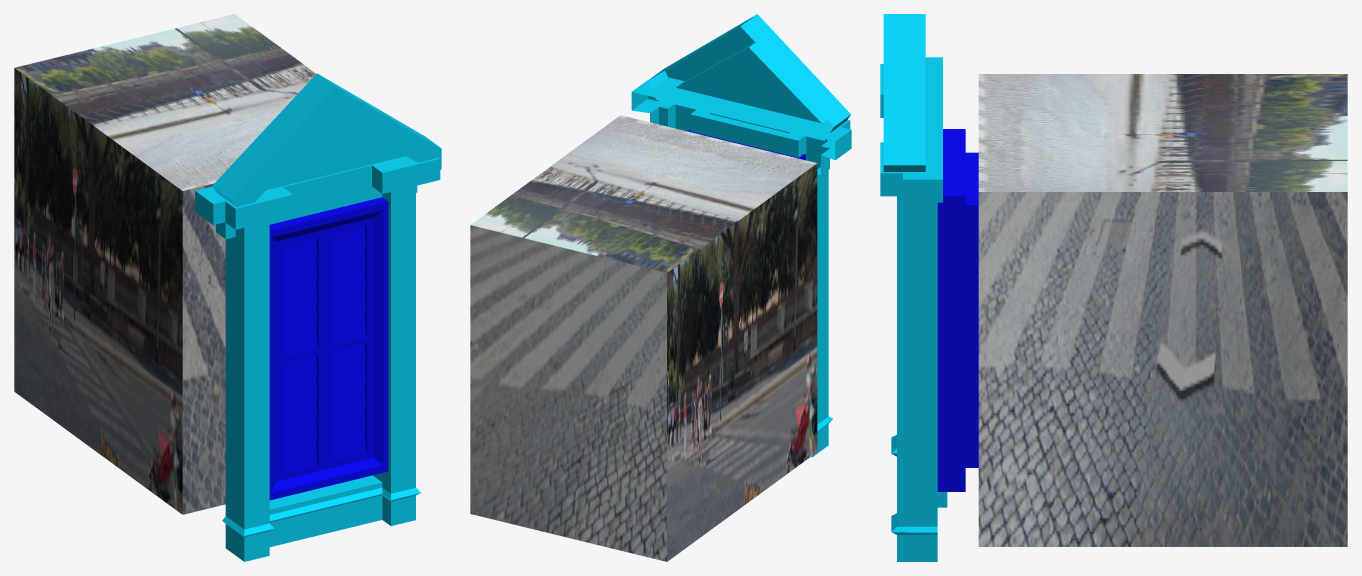
File: BWindow01.FBX
3 views of the same model, side by side, from view 1: azimuth 30°, elevation 25°; view 2: azimuth 150°, elevation 25°; view 3: azimuth 270°, elevation 25° (orthographic). The views are drawn at different scales.
Visible parts, largest first — view 1: Box014, Dummy001; view 2: Box014; view 3: Box014.
Boxes of the visible parts, box(x1,y1,x2,y2) form: Box014: box(14, 14, 441, 561); Dummy001: box(276, 217, 373, 481); Box014: box(470, 14, 851, 561); Box014: box(880, 14, 1347, 561).
Bounding box in the file's own units: 352 × 675 × 569.
